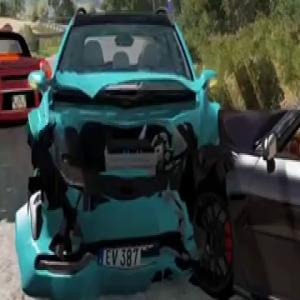significant: (3, 0, 300, 300)
